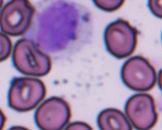L: (30, 0, 99, 59)
